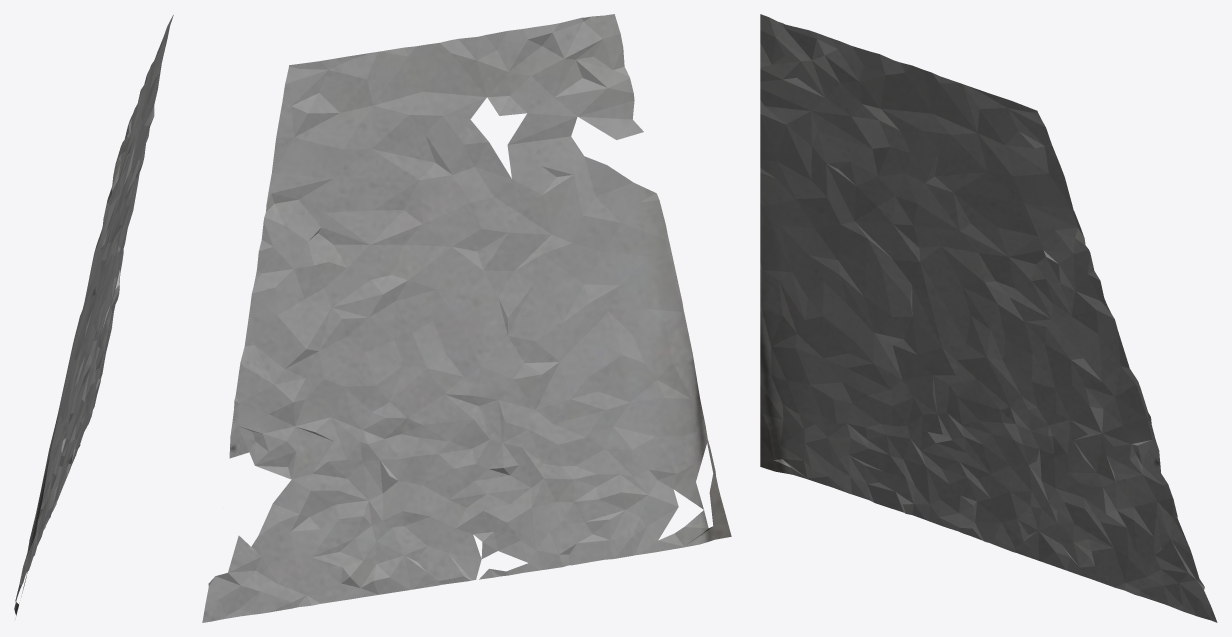
3 views of the same model, side by side, from view 1: azimuth 30°, elevation 25°; view 2: azimuth 150°, elevation 25°; view 3: azimuth 270°, elevation 25° (orthographic). The views are drawn at different scales.
Bounding box in the file's own units: 0.5475 × 0.8373 × 0.6779.
2 materials, 2 textured.
